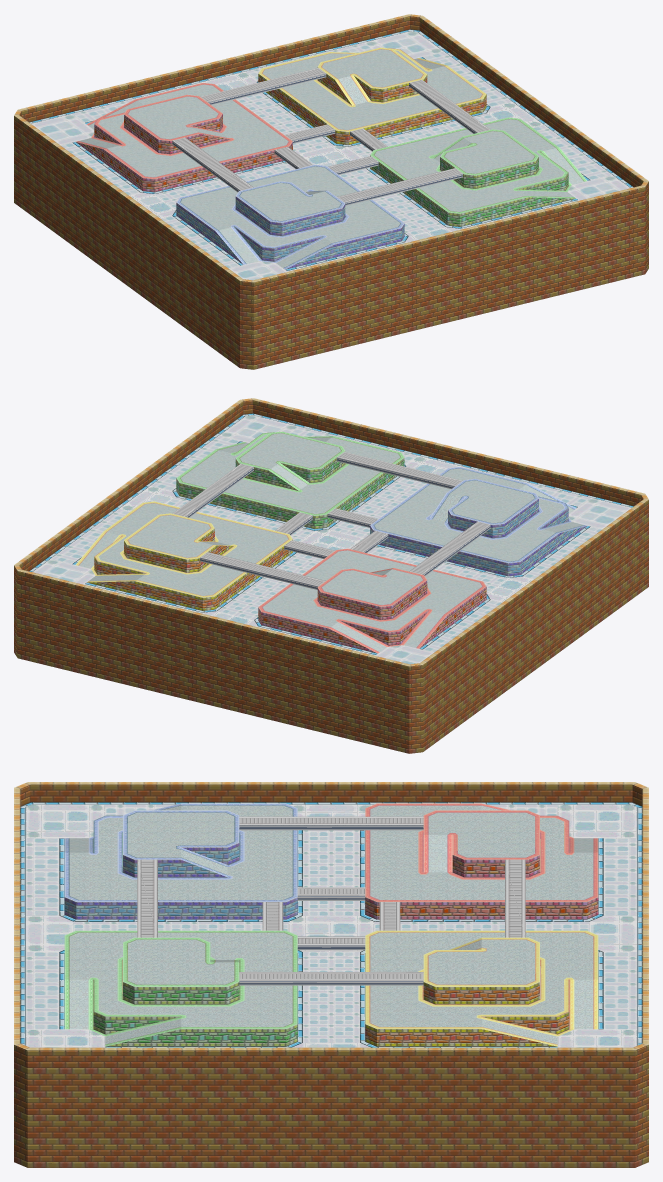
Rendered from main.glb.
The picture shows the model from 3 angles, top to bottom: view 1: azimuth 30°, elevation 25°; view 2: azimuth 150°, elevation 25°; view 3: azimuth 270°, elevation 25°; orthographic projection. The views are drawn at different scales.
Visible parts, largest first — view 1: course_model; view 2: course_model; view 3: course_model.
Part boxes in pixels (box(x1,y1,x2,y2)): course_model: box(14, 14, 648, 369); course_model: box(14, 398, 648, 753); course_model: box(14, 782, 648, 1167).
Size of the model in its own units: 153 by 35.94 by 153.
Materials: 12 (12 with a texture image).
